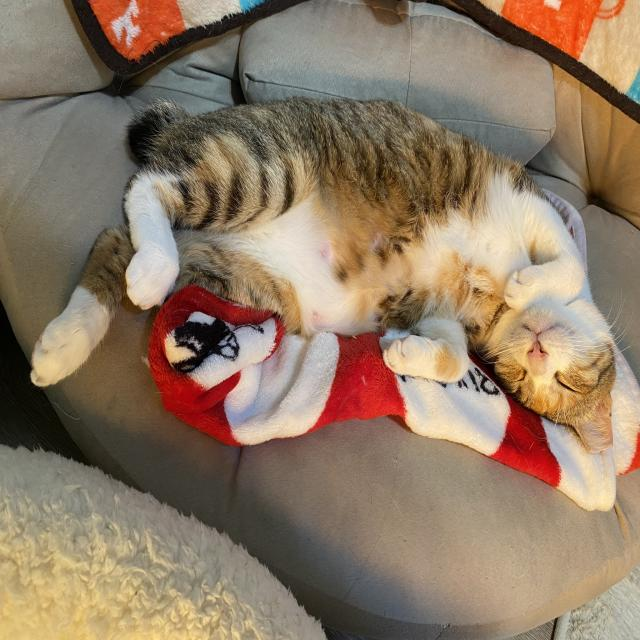cat2: (34, 99, 619, 459)
